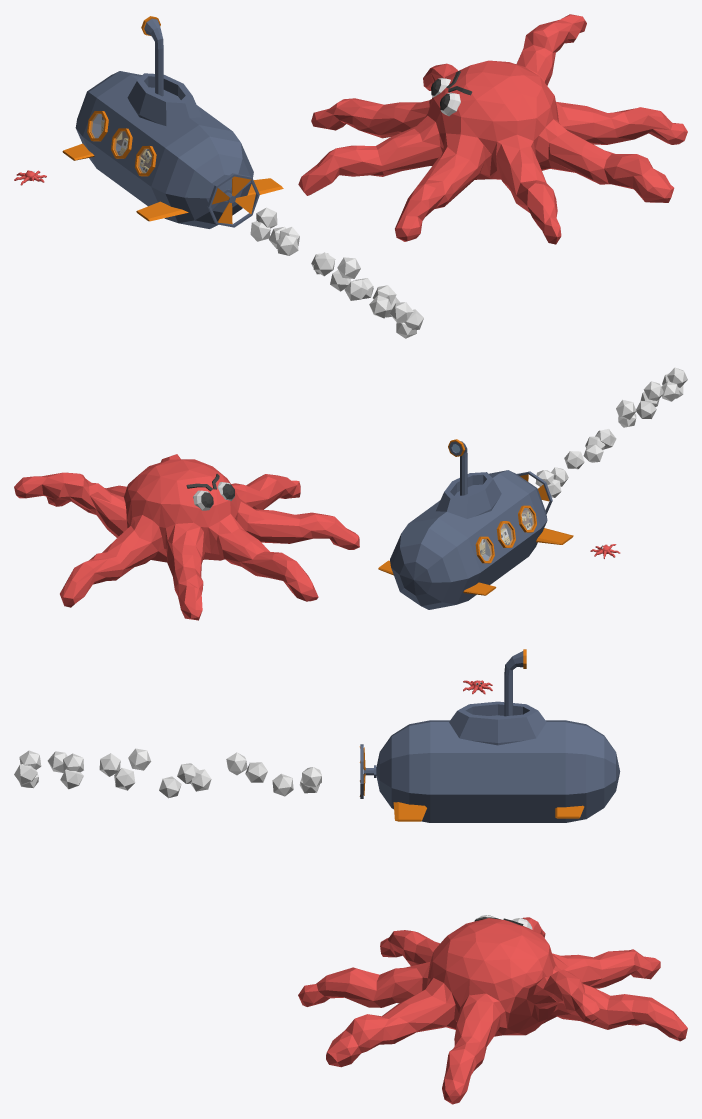
The model's file is submarinescene.glb.
3 renders of one model, top to bottom at view 1: azimuth 30°, elevation 25°; view 2: azimuth 150°, elevation 25°; view 3: azimuth 270°, elevation 25°, orthographic. The views are drawn at different scales.
Parts seen in each view (by area): view 1: octopus, sub body, sub windows, sub fin back.002, sub periscope, sub prop; view 2: octopus, sub body, sub windows, sub periscope, sub fin back.002, sub fin front; view 3: octopus, sub body, sub periscope.
Boxes of the visible parts, x1,y1,x2,y2 form: octopus: (298, 14, 687, 244); sub body: (75, 71, 259, 228); sub windows: (87, 111, 156, 176); sub fin back.002: (136, 178, 283, 221); sub periscope: (141, 16, 163, 96); sub prop: (212, 176, 255, 224); octopus: (14, 454, 359, 620); sub body: (390, 470, 552, 609); sub windows: (475, 505, 536, 563); sub periscope: (448, 439, 467, 495); sub fin back.002: (536, 528, 573, 544); sub fin front: (378, 560, 496, 595); octopus: (298, 915, 687, 1104); sub body: (360, 701, 620, 822); sub periscope: (504, 649, 526, 716).
Size of the model in its own units: 13.7 by 4.4 by 12.33.
